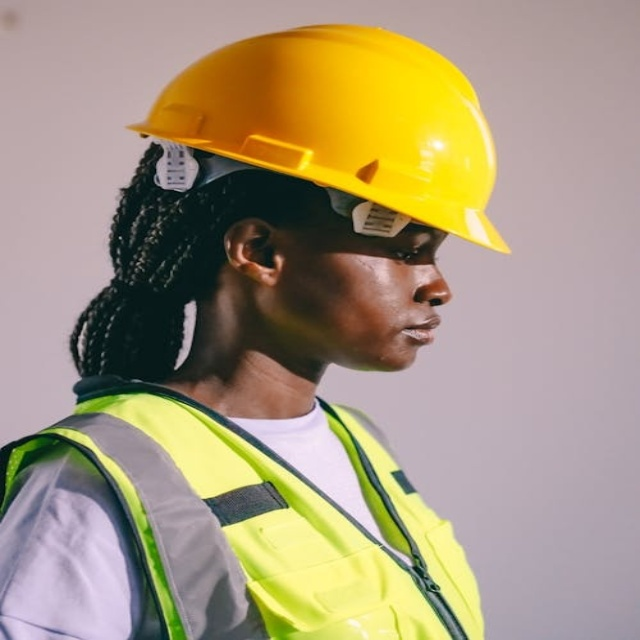Sin_gafas: (319, 236, 448, 274)
Sin_mascara: (355, 311, 452, 372)
